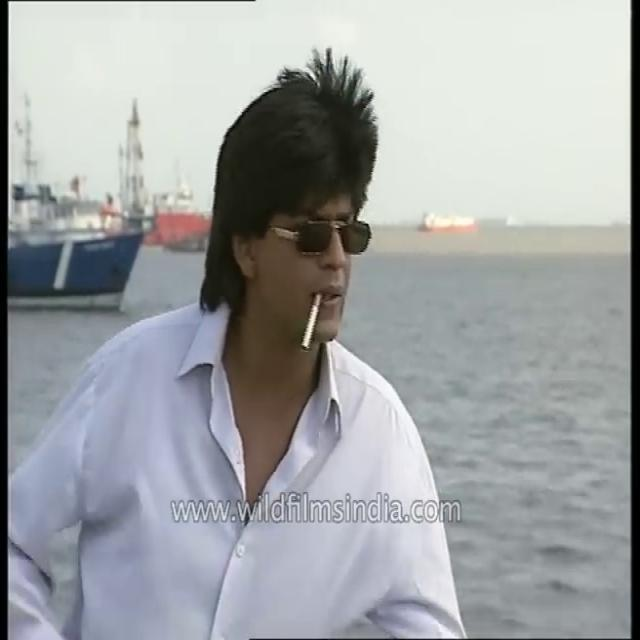Smooking: (297, 289, 330, 358)
